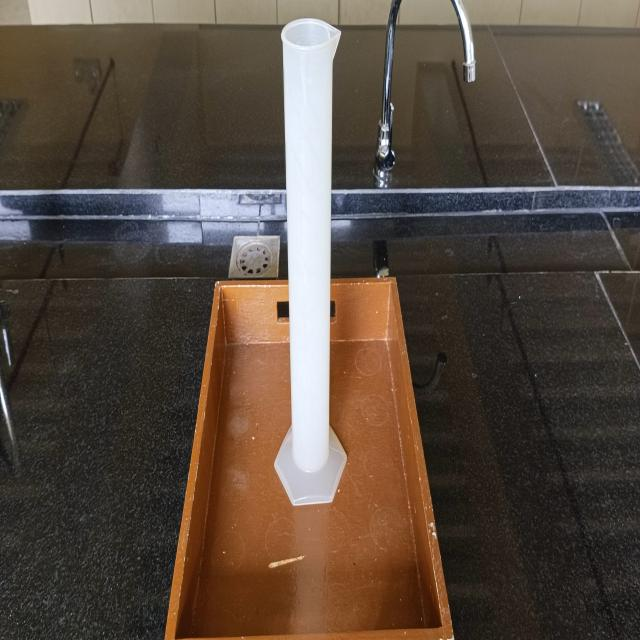graduated_cylinder: (271, 9, 351, 514)
